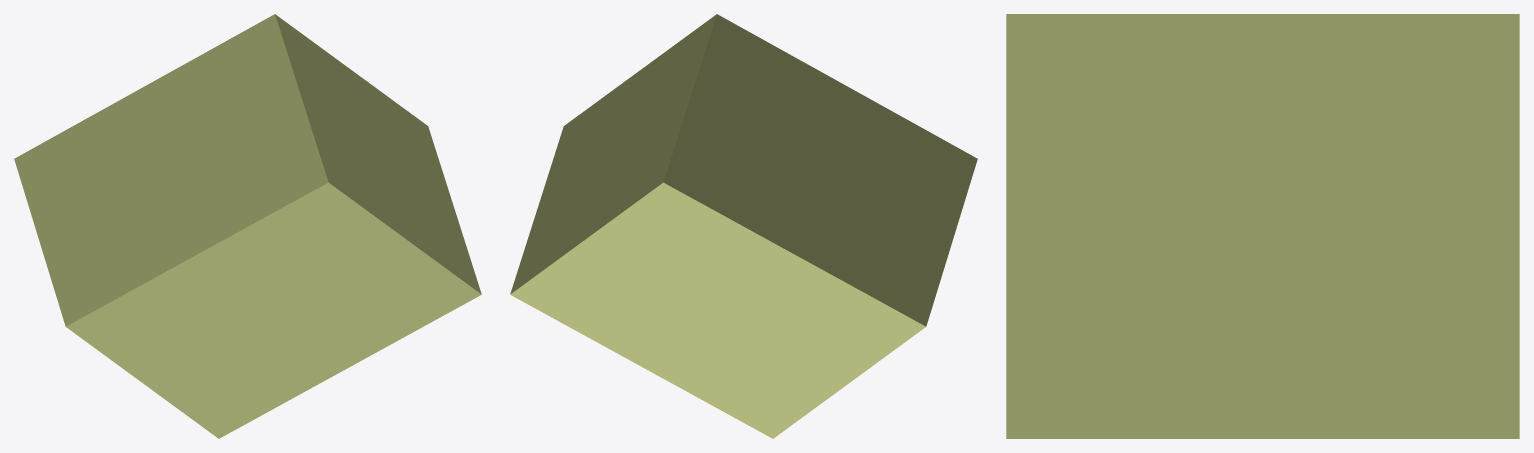
3 renders of one model, left to right at view 1: azimuth 30°, elevation 25°; view 2: azimuth 150°, elevation 25°; view 3: azimuth 270°, elevation 25°, orthographic. The views are drawn at different scales.
Visible parts, largest first — view 1: 0_1_2_0_3_3_0_3_1_1_2; view 2: 0_1_2_0_3_3_0_3_1_1_2; view 3: 0_1_2_0_3_3_0_3_1_1_2.
Boxes of the visible parts, x1,y1,x2,y2 form: 0_1_2_0_3_3_0_3_1_1_2: [14, 14, 481, 438]; 0_1_2_0_3_3_0_3_1_1_2: [510, 14, 977, 438]; 0_1_2_0_3_3_0_3_1_1_2: [1006, 14, 1519, 438].
Size of the model in its own units: 10.66 by 8.48 by 9.
